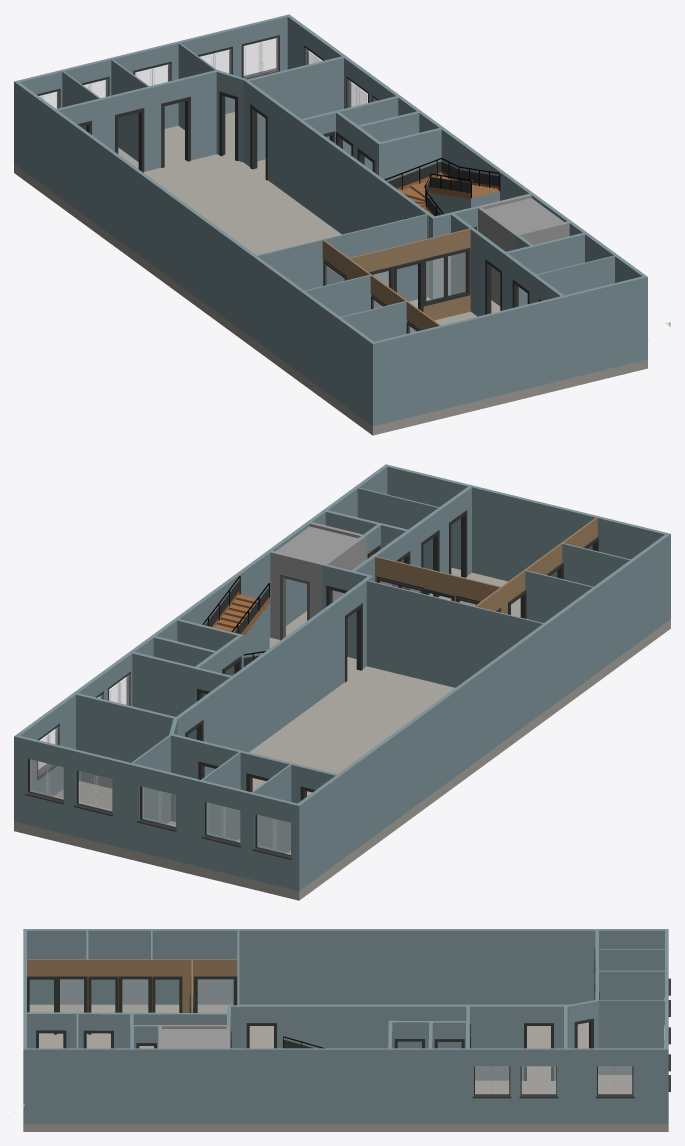
Rendered from Floor 4.gltf.
The picture shows the model from 3 angles, top to bottom: view 1: azimuth 30°, elevation 25°; view 2: azimuth 150°, elevation 25°; view 3: azimuth 270°, elevation 25°; orthographic projection. The views are drawn at different scales.
Visible parts, largest first — view 1: Wall, Wall.025, Slab, Wall.003, Wall.011, Wall.001, Wall.002, Wall.007, Stair, Wall.009, Wall.023, Wall.015 (+16 smaller); view 2: Wall, Slab, Wall.025, Wall.003, Wall.002, Wall.011, Wall.026, Wall.001, Wall.009, Wall.007, Stair, Wall.023 (+11 smaller); view 3: Wall, Wall.025, Slab, Wall.001, Wall.005, Wall.011, Wall.015, Wall.006, Slab.001, Window Panel.023, Window Panel.021, Wall.007 (+18 smaller).
Part boxes in pixels (x1,y1,x2,y2): Wall: [14, 14, 647, 426]; Wall.025: [56, 70, 430, 296]; Slab: [14, 112, 647, 435]; Wall.003: [256, 214, 427, 308]; Wall.011: [347, 228, 470, 330]; Wall.001: [451, 213, 565, 316]; Wall.002: [246, 56, 344, 161]; Wall.007: [356, 111, 441, 181]; Stair: [384, 157, 500, 216]; Wall.009: [478, 193, 570, 305]; Wall.023: [536, 255, 616, 295]; Wall.015: [111, 59, 151, 170]; Wall: [14, 464, 670, 890]; Slab: [14, 567, 670, 900]; Wall.025: [169, 579, 367, 821]; Wall.003: [366, 580, 544, 687]; Wall.002: [75, 693, 176, 788]; Wall.011: [375, 517, 597, 614]; Wall.026: [132, 651, 219, 738]; Wall.001: [351, 485, 473, 592]; Wall.009: [270, 522, 366, 639]; Wall.007: [152, 619, 243, 696]; Stair: [202, 574, 270, 666]; Wall.023: [357, 487, 438, 569]; Wall: [23, 929, 668, 1123]; Wall.025: [236, 930, 598, 1080]; Slab: [23, 1004, 668, 1131]; Wall.001: [23, 1012, 227, 1048]; Wall.005: [599, 1000, 664, 1074]; Wall.011: [27, 959, 192, 1033]; Wall.015: [599, 970, 664, 1000]; Wall.006: [595, 949, 664, 970]; Slab.001: [162, 1029, 226, 1048]; Window Panel.023: [197, 979, 234, 1012]; Window Panel.021: [121, 979, 149, 1012]; Wall.007: [388, 1020, 432, 1048].
Size of the model in its own units: 10.21 by 3 by 21.73.
Materials: 12 (1 with a texture image).
